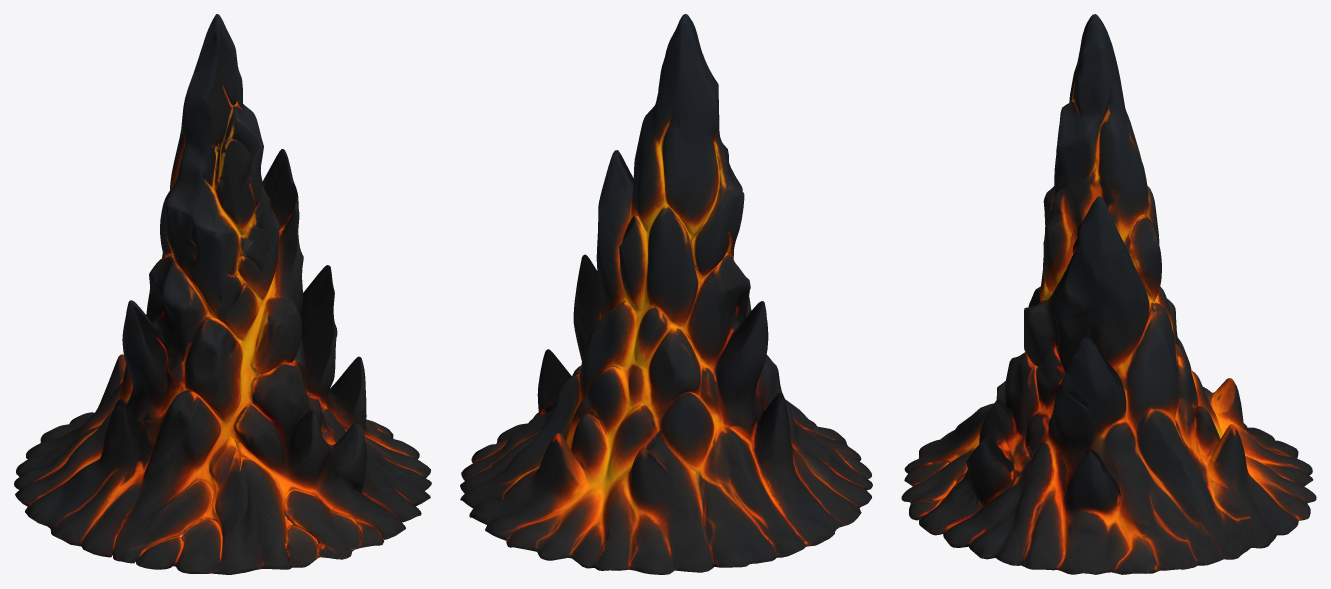
Rendered from lavaspike2.glb.
3 views of the same model, side by side, from view 1: azimuth 30°, elevation 25°; view 2: azimuth 150°, elevation 25°; view 3: azimuth 270°, elevation 25° (orthographic).
Visible parts, largest first — view 1: node_0; view 2: node_0; view 3: node_0.
Boxes of the visible parts, x1=… form: node_0: x1=14, y1=14, x2=431, y2=574; node_0: x1=460, y1=14, x2=872, y2=574; node_0: x1=901, y1=14, x2=1316, y2=574.
Size of the model in its own units: 0.7331 by 0.9348 by 0.7474.
1 material, 1 textured.
